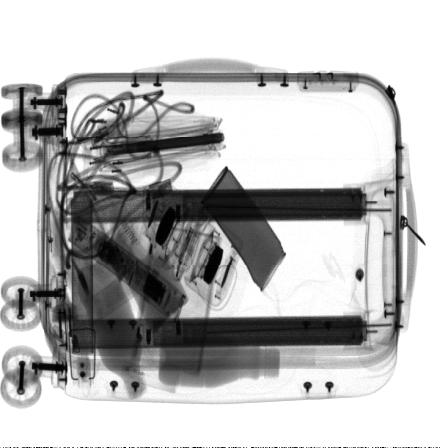Baton: (68, 218, 190, 319)
